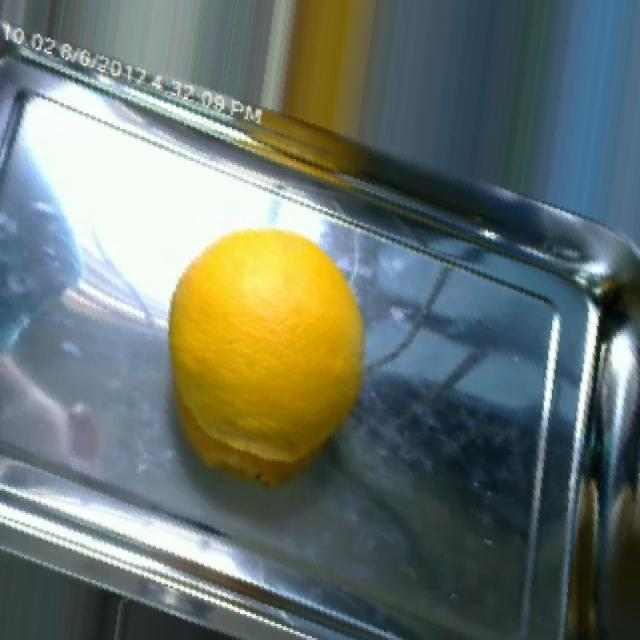Fruit: (145, 222, 375, 504), (258, 0, 402, 153)
